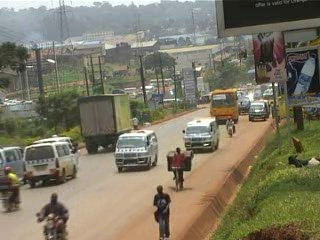Motorcycle: (36, 192, 73, 239), (0, 163, 25, 213), (222, 114, 237, 137)
